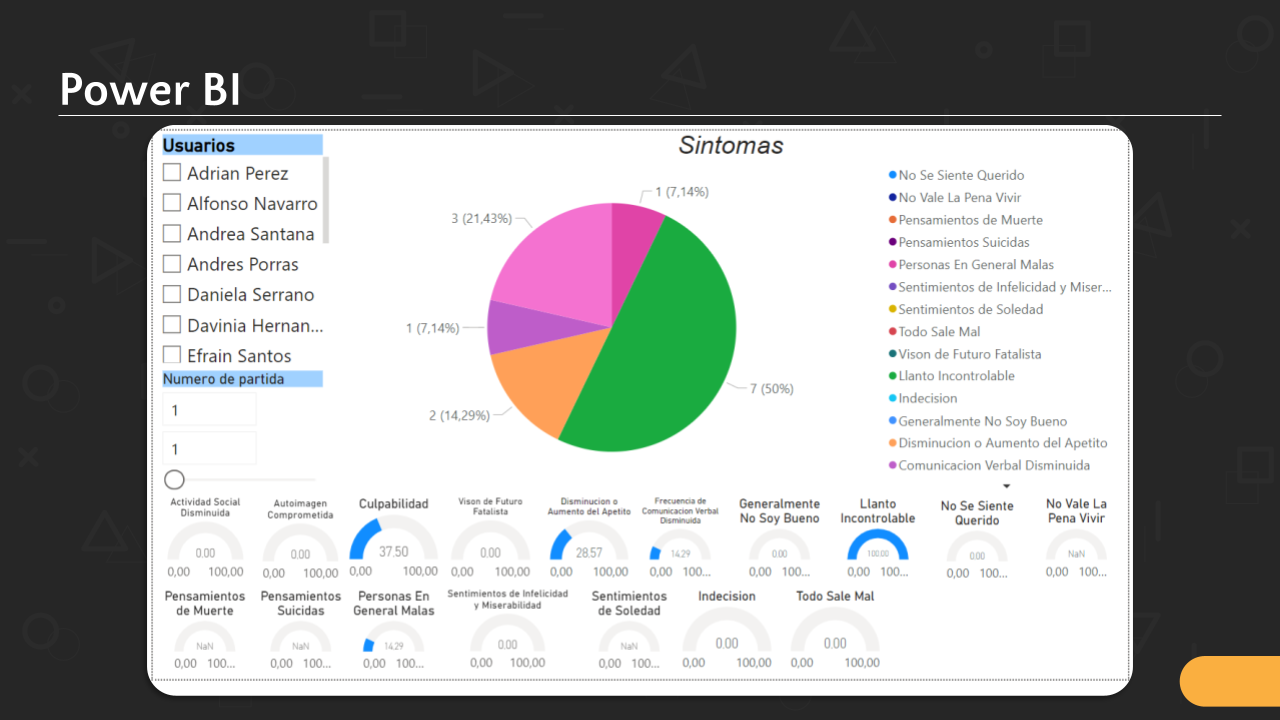

The page's visual inventory and layout, read from the dashboard file:
{"tool":"powerbi","page":{"name":"Reporte General","canvas":[1280,720],"ordinal":0},"visuals":[{"type":"slicer","fields":{"Values":["Sintomas.NombreCompleto"]},"box":[0,0,236,310],"z":0},{"type":"pieChart","title":"Sintomas","fields":{"Y":["Sum(Sintomas.No Se Siente Querido)","Sum(Sintomas.No Vale La Pena Vivir)","Sum(Sintomas.Pensamientos de Muerte)","Sum(Sintomas.Pensamientos Suicidas)","Sum(Sintomas.Personas En General Malas)","Sum(Sintomas.Sentimientos de Infelicidad y Miserabilidad)","Sum(Sintomas.Sentimientos de Soledad)","Sum(Sintomas.Todo Sale Mal)","Sum(Sintomas.Vison de Futuro Fatalista)","Sum(Sintomas.Llanto Incontrolable)","Sum(Sintomas.Indecision)","Sum(Sintomas.Generalmente No Soy Bueno)"]},"box":[236,0,1044,480],"z":1000},{"type":"slicer","fields":{"Values":["Sintomas.Numero de partida"]},"box":[0,310,236,170],"z":2000},{"type":"gauge","title":"Actividad Social Disminuida","fields":{"Y":["Sintomas.PercentageActividadSocialDisminuida"]},"box":[6.2,480,126.2,120],"z":3000},{"type":"gauge","title":"Autoimagen Comprometida","fields":{"Y":["Sintomas.PercentageAutoimagenComprometida"]},"box":[132,482,125,120],"z":4000},{"type":"gauge","title":"Culpabilidad","fields":{"Y":["Sintomas.PercentageCulpabilidad"]},"box":[254,480,126,120],"z":5000},{"type":"gauge","title":"Disminucion o Aumento del Apetito","fields":{"Y":["Sintomas.PercentageAumentoApetito"]},"box":[510,480,125,120],"z":7000},{"type":"gauge","title":"Frecuencia de Comunicacion Verbal Disminuida","fields":{"Y":["Sintomas.PercentageFrecuenciaComunicacionVerbal"]},"box":[630,480,125,120],"z":8000},{"type":"gauge","title":"Generalmente No Soy Bueno","fields":{"Y":["Sintomas.PercentageNoSoyBueno"]},"box":[760,480,125,120],"z":9000},{"type":"gauge","title":"Indecision","fields":{"Y":["Sintomas.PercentageIndecision"]},"box":[637,600,126.4,120.5],"z":10000},{"type":"gauge","title":"Llanto Incontrolable","fields":{"Y":["Sintomas.PercentageLlantoIncontrolable"]},"box":[890,480,125,120],"z":11000},{"type":"gauge","title":"No Se Siente Querido","fields":{"Y":["Sintomas.PercentageNoSeSienteQuerido"]},"box":[1020,482,125,120],"z":12000},{"type":"gauge","title":"No Vale La Pena Vivir","fields":{"Y":["Sintomas.PercentageNoValeLaPenaVivir"]},"box":[1150,480,125,120],"z":13000},{"type":"gauge","title":"Pensamientos de Muerte","fields":{"Y":["Sintomas.PercentagePensamientoMuerte"]},"box":[6,600,125,120],"z":14000},{"type":"gauge","title":"Pensamientos Suicidas","fields":{"Y":["Sintomas.PercentagePensamientoSuicida"]},"box":[132,600,126,120],"z":15000},{"type":"gauge","title":"Personas En General Malas","fields":{"Y":["Sintomas.PercentagePersonasEnGeneralMalas"]},"box":[254,600,126,120],"z":16000},{"type":"gauge","title":"Sentimientos de Infelicidad y Miserabilidad","fields":{"Y":["Sintomas.PercentageSentimientosDeInfelicidad"]},"box":[380,600,126,120],"z":17000},{"type":"gauge","title":"Sentimientos de Soledad","fields":{"Y":["Sintomas.PercentageSentimientosDeSoledad"]},"box":[510,600,126,120],"z":18000},{"type":"gauge","title":"Todo Sale Mal","fields":{"Y":["Sintomas.PercentageTodoSaleMal"]},"box":[779,600,126.4,120.5],"z":19000},{"type":"gauge","title":"Vison de Futuro Fatalista","fields":{"Y":["Sintomas.PercentageFuturoFatalista"]},"box":[380.5,479.6,126.4,120.5],"z":20000}]}

Visuals, with their boxes on the page's 1280x720 design canvas (x1, y1, x2, y2). These are canvas units, not pixel positions in the 1280x720 screenshot, which may show the page scaled, cropped or inside an application window:
slicer - Sintomas.NombreCompleto: bbox=(0, 0, 236, 310)
"Sintomas" pieChart: bbox=(236, 0, 1280, 480)
slicer - Sintomas.Numero de partida: bbox=(0, 310, 236, 480)
"Actividad Social Disminuida" gauge: bbox=(6, 480, 132, 600)
"Autoimagen Comprometida" gauge: bbox=(132, 482, 257, 602)
"Culpabilidad" gauge: bbox=(254, 480, 380, 600)
"Disminucion o Aumento del Apetito" gauge: bbox=(510, 480, 635, 600)
"Frecuencia de Comunicacion Verbal Disminuida" gauge: bbox=(630, 480, 755, 600)
"Generalmente No Soy Bueno" gauge: bbox=(760, 480, 885, 600)
"Indecision" gauge: bbox=(637, 600, 763, 720)
"Llanto Incontrolable" gauge: bbox=(890, 480, 1015, 600)
"No Se Siente Querido" gauge: bbox=(1020, 482, 1145, 602)
"No Vale La Pena Vivir" gauge: bbox=(1150, 480, 1275, 600)
"Pensamientos de Muerte" gauge: bbox=(6, 600, 131, 720)
"Pensamientos Suicidas" gauge: bbox=(132, 600, 258, 720)
"Personas En General Malas" gauge: bbox=(254, 600, 380, 720)
"Sentimientos de Infelicidad y Miserabilidad" gauge: bbox=(380, 600, 506, 720)
"Sentimientos de Soledad" gauge: bbox=(510, 600, 636, 720)
"Todo Sale Mal" gauge: bbox=(779, 600, 905, 720)
"Vison de Futuro Fatalista" gauge: bbox=(380, 480, 507, 600)
